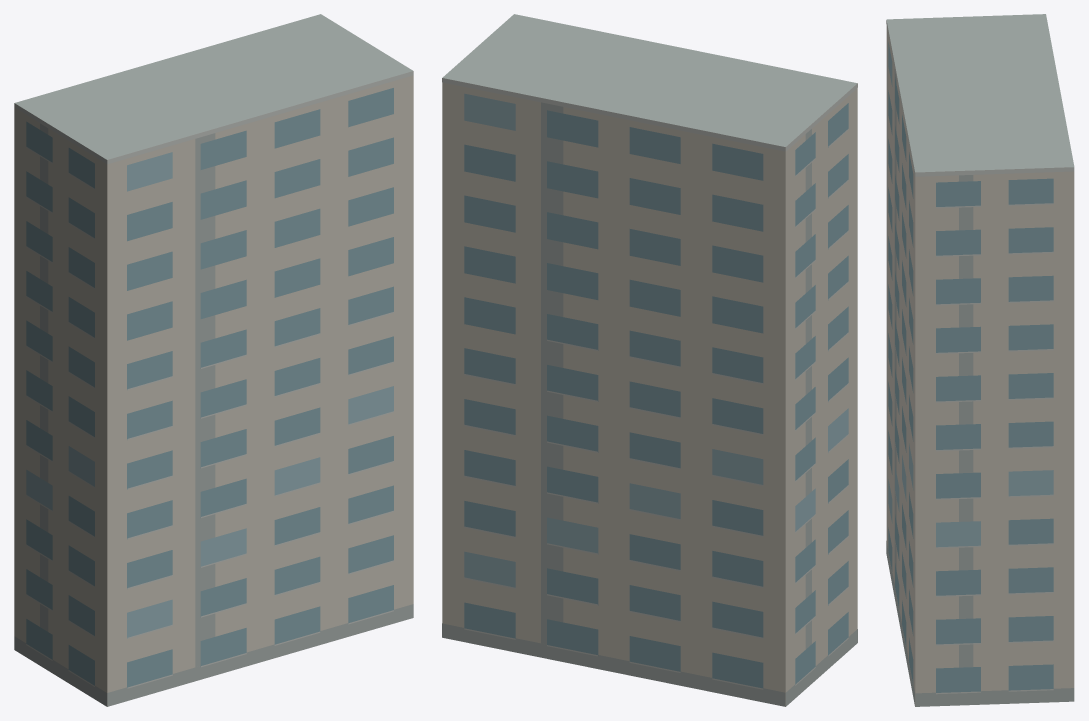
File: residential-9fe35153-6e02-43bf-bc10-6483589ba335.glb
3 renders of one model, left to right at view 1: azimuth 30°, elevation 25°; view 2: azimuth 150°, elevation 25°; view 3: azimuth 270°, elevation 25°, orthographic. The views are drawn at different scales.
Visible parts, largest first — view 1: residential-9fe35153-6e02-43bf-bc10-6483589ba335.tmp; view 2: residential-9fe35153-6e02-43bf-bc10-6483589ba335.tmp; view 3: residential-9fe35153-6e02-43bf-bc10-6483589ba335.tmp.
Boxes of the visible parts, x1,y1,x2,y2 form: residential-9fe35153-6e02-43bf-bc10-6483589ba335.tmp: (14,14,413,706); residential-9fe35153-6e02-43bf-bc10-6483589ba335.tmp: (442,14,857,706); residential-9fe35153-6e02-43bf-bc10-6483589ba335.tmp: (886,14,1074,706).
Size of the model in its own units: 19.09 by 30 by 9.57.
